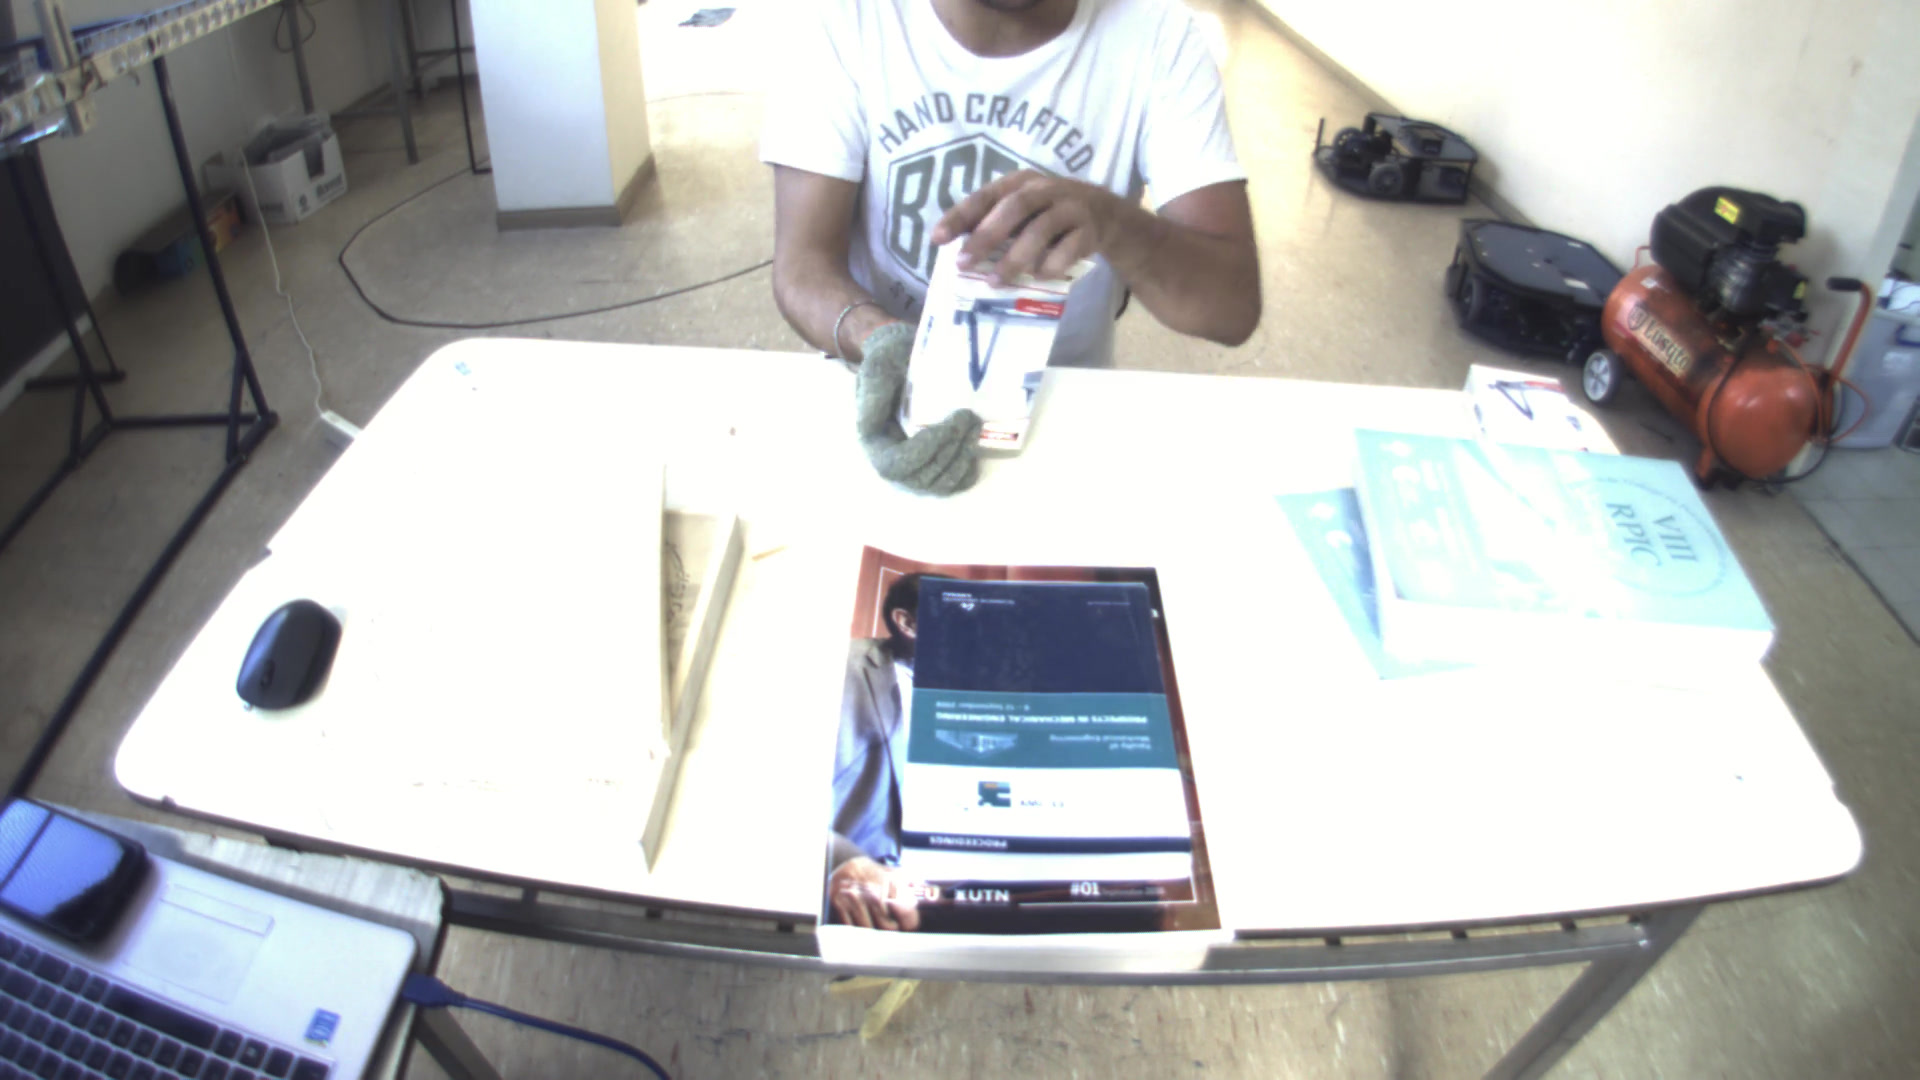hand: (913, 156, 1178, 290), (840, 320, 992, 506)
